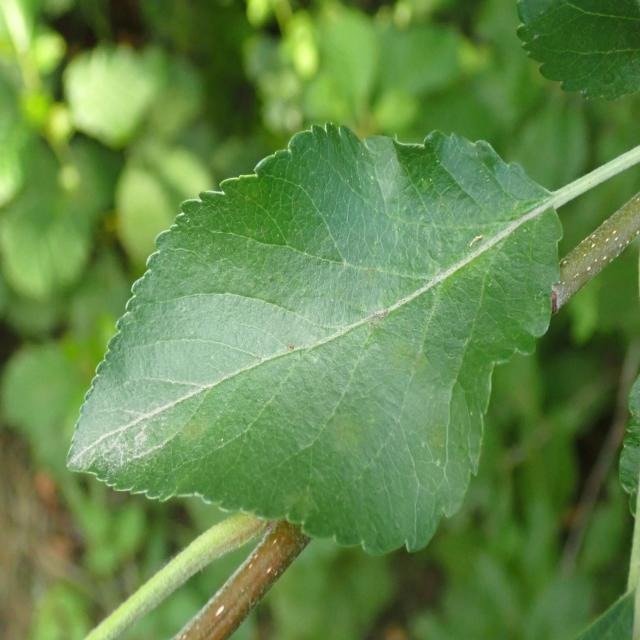scab: (77, 107, 555, 524)
